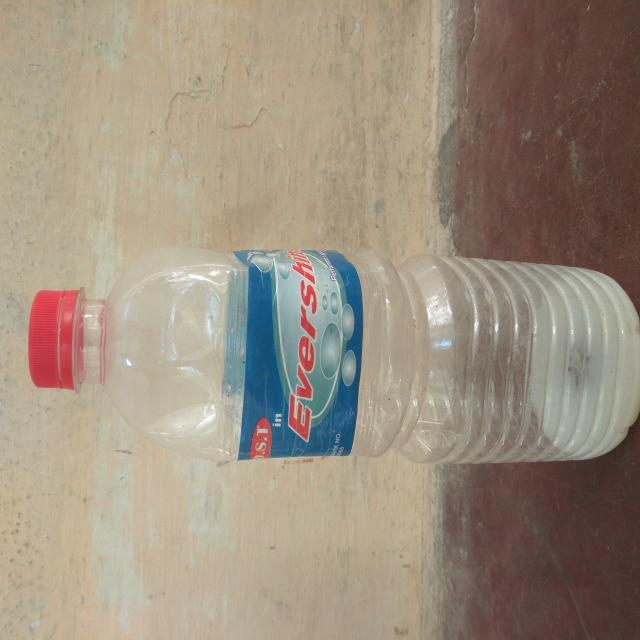plastic: (29, 252, 640, 458)
